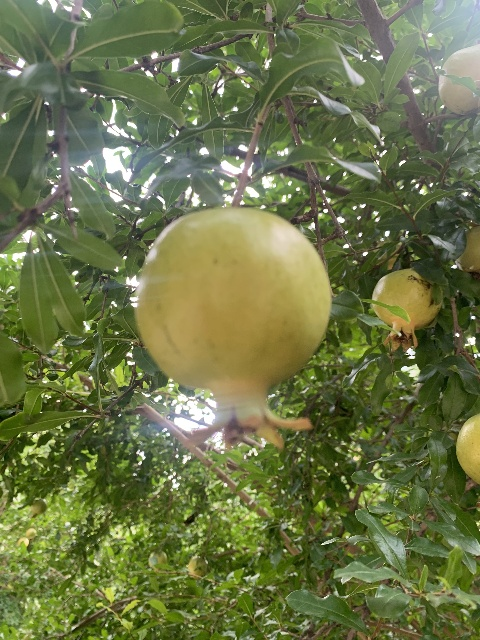mid-growth: (133, 207, 332, 451), (371, 267, 442, 352)
